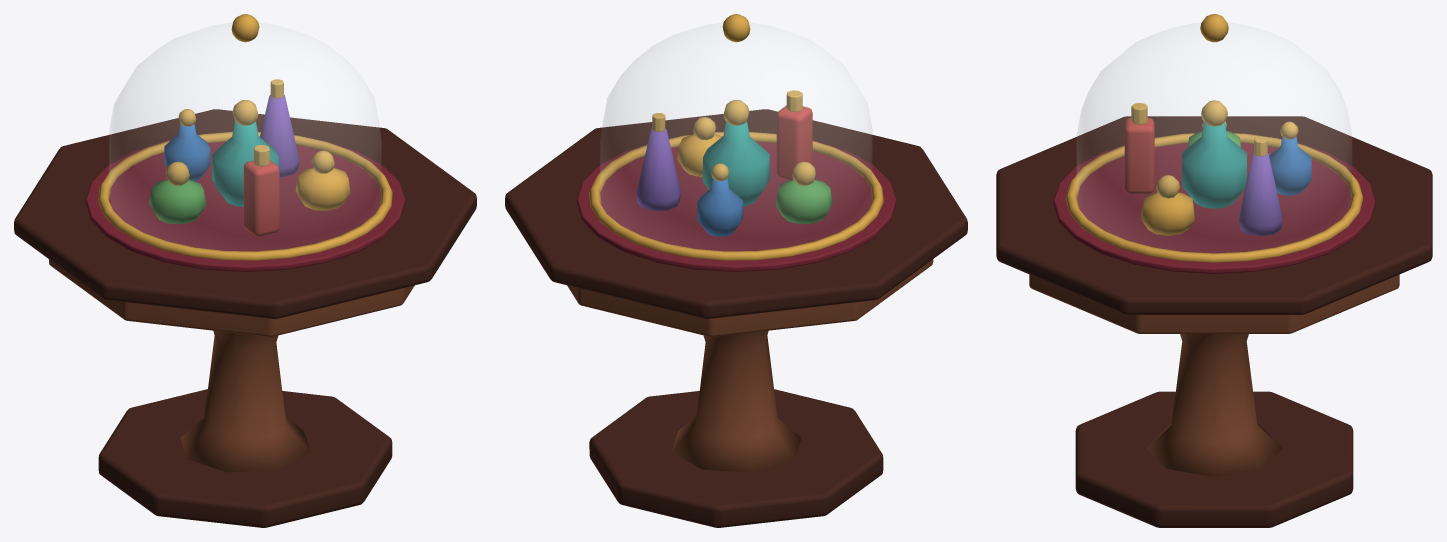
The model's file is display-table.glb.
The picture shows the model from 3 angles, left to right: view 1: azimuth 30°, elevation 25°; view 2: azimuth 150°, elevation 25°; view 3: azimuth 270°, elevation 25°; orthographic projection.
Parts seen in each view (by area): view 1: display-table; view 2: display-table; view 3: display-table.
Boxes of the visible parts, x1=… form: display-table: x1=14, y1=14, x2=476, y2=527; display-table: x1=505, y1=14, x2=967, y2=527; display-table: x1=996, y1=14, x2=1432, y2=527.
Bounding box in the file's own units: 1.22 × 1.4 × 1.22.
